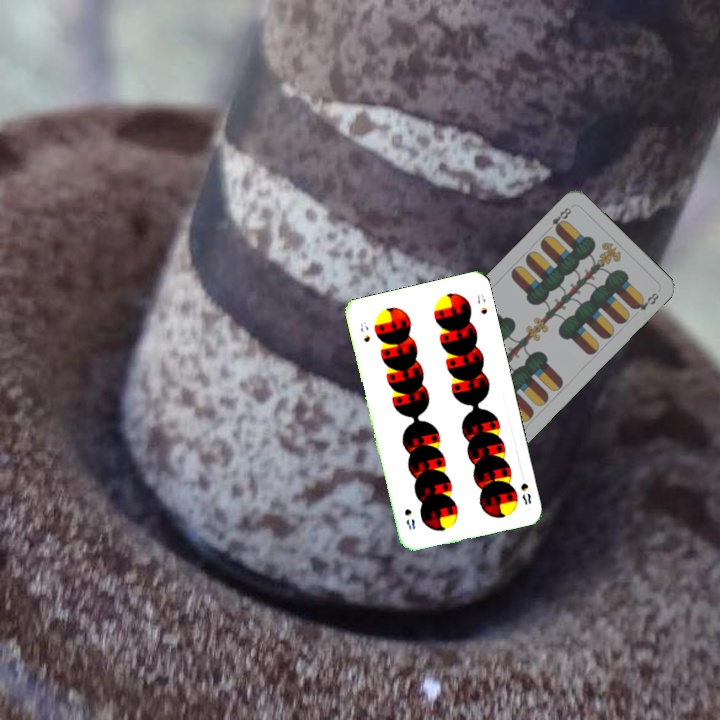E8: (542, 203, 574, 235)
S8: (356, 317, 373, 345), (517, 479, 534, 507)
